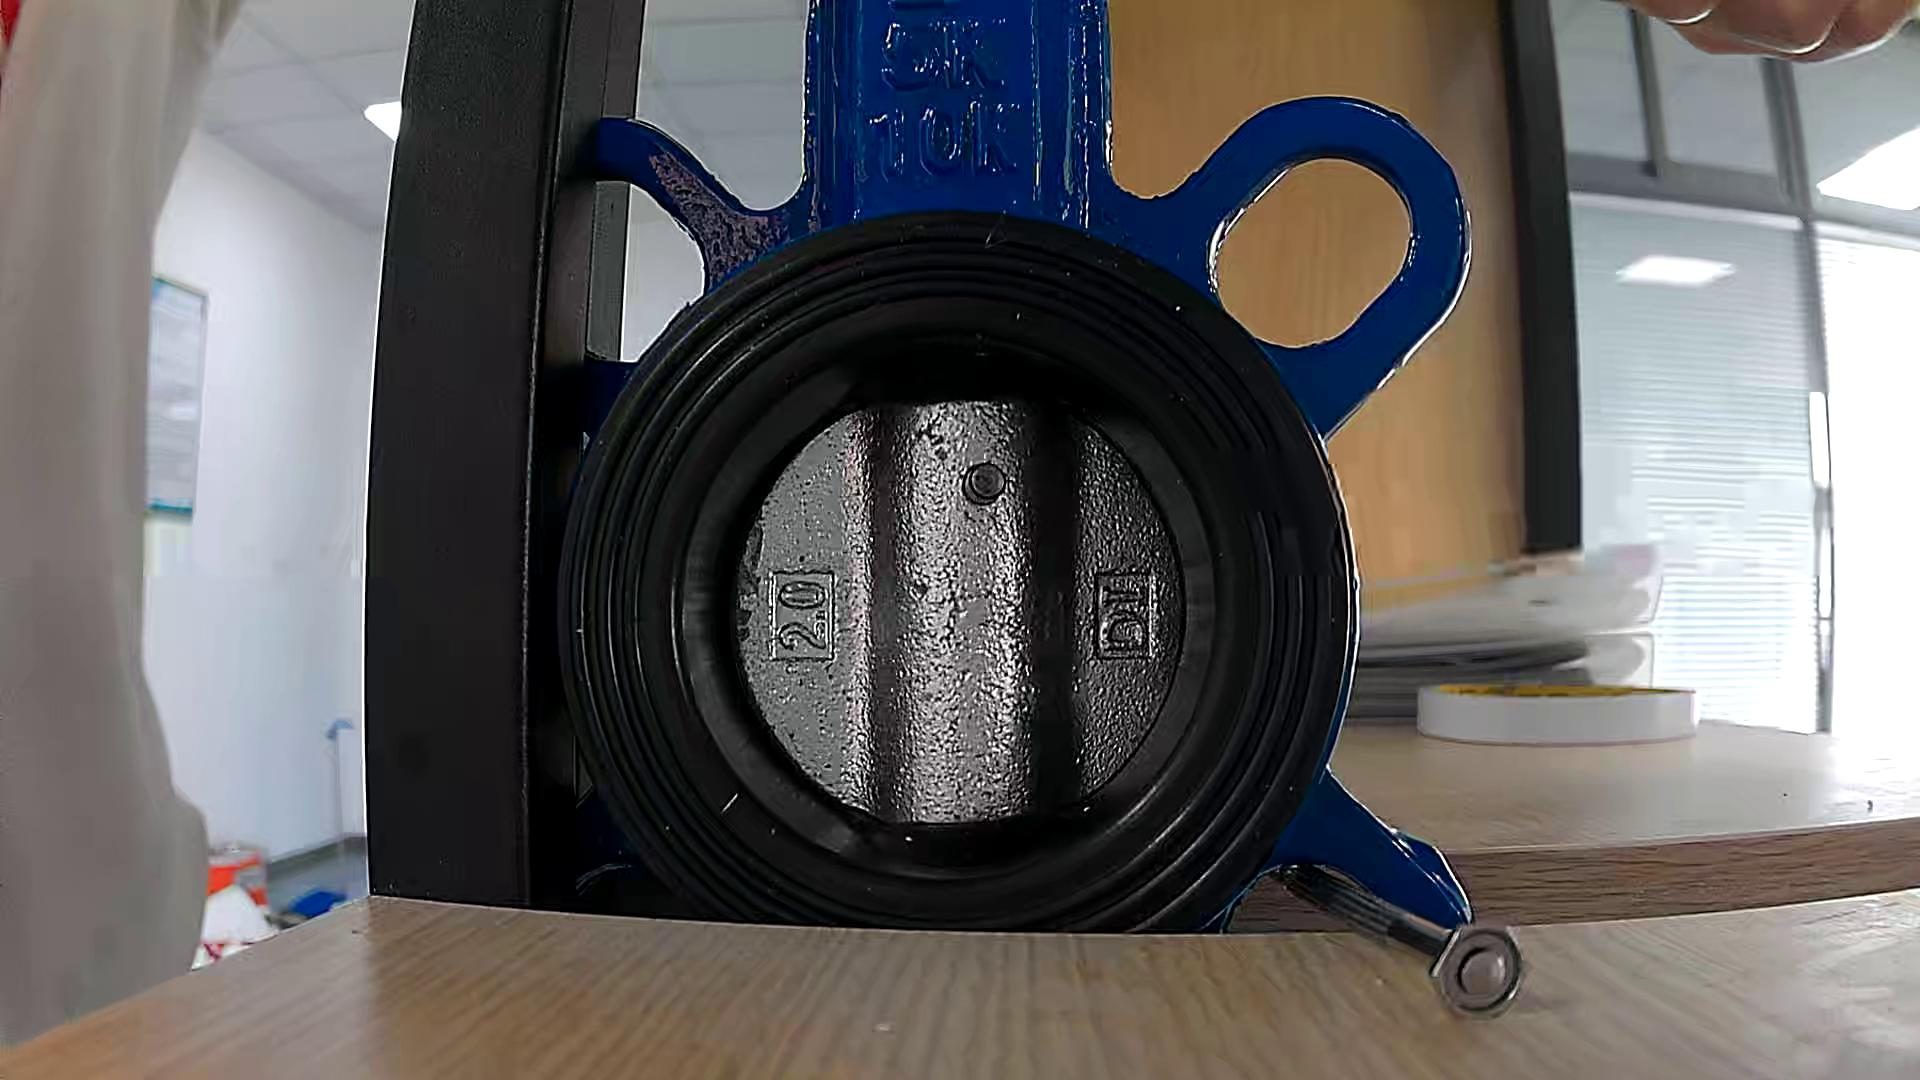valve: (735, 398, 1181, 825)
